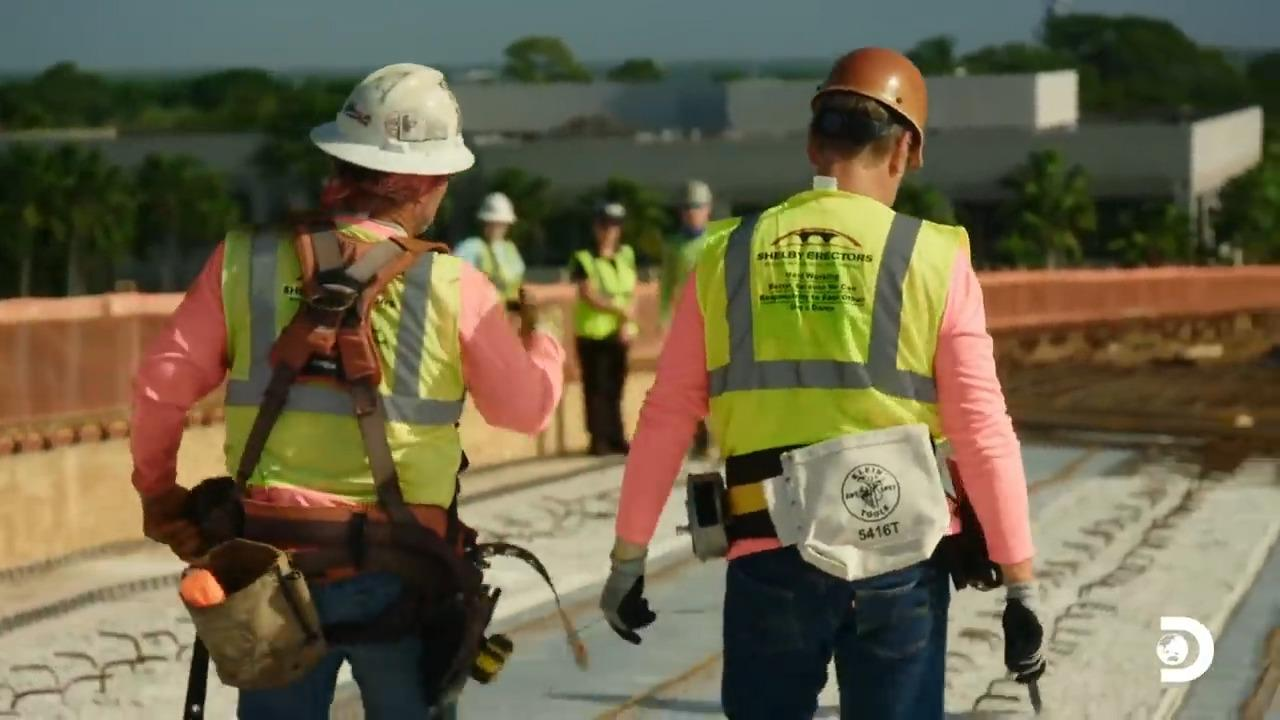Gloves: (1000, 575, 1052, 676), (137, 484, 208, 554), (590, 555, 655, 630)
Helmet: (309, 62, 475, 176), (811, 46, 928, 138), (476, 191, 517, 224), (667, 178, 713, 206)
Person: (599, 46, 1047, 719), (127, 61, 568, 718), (549, 180, 643, 457)
Safety Vest: (237, 233, 457, 479), (711, 229, 953, 450)
